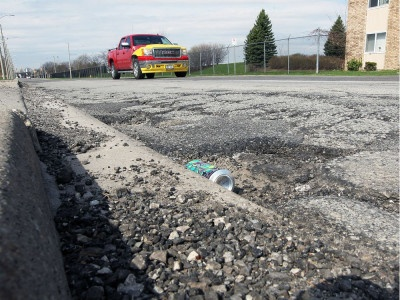pothole: (156, 123, 350, 179)
